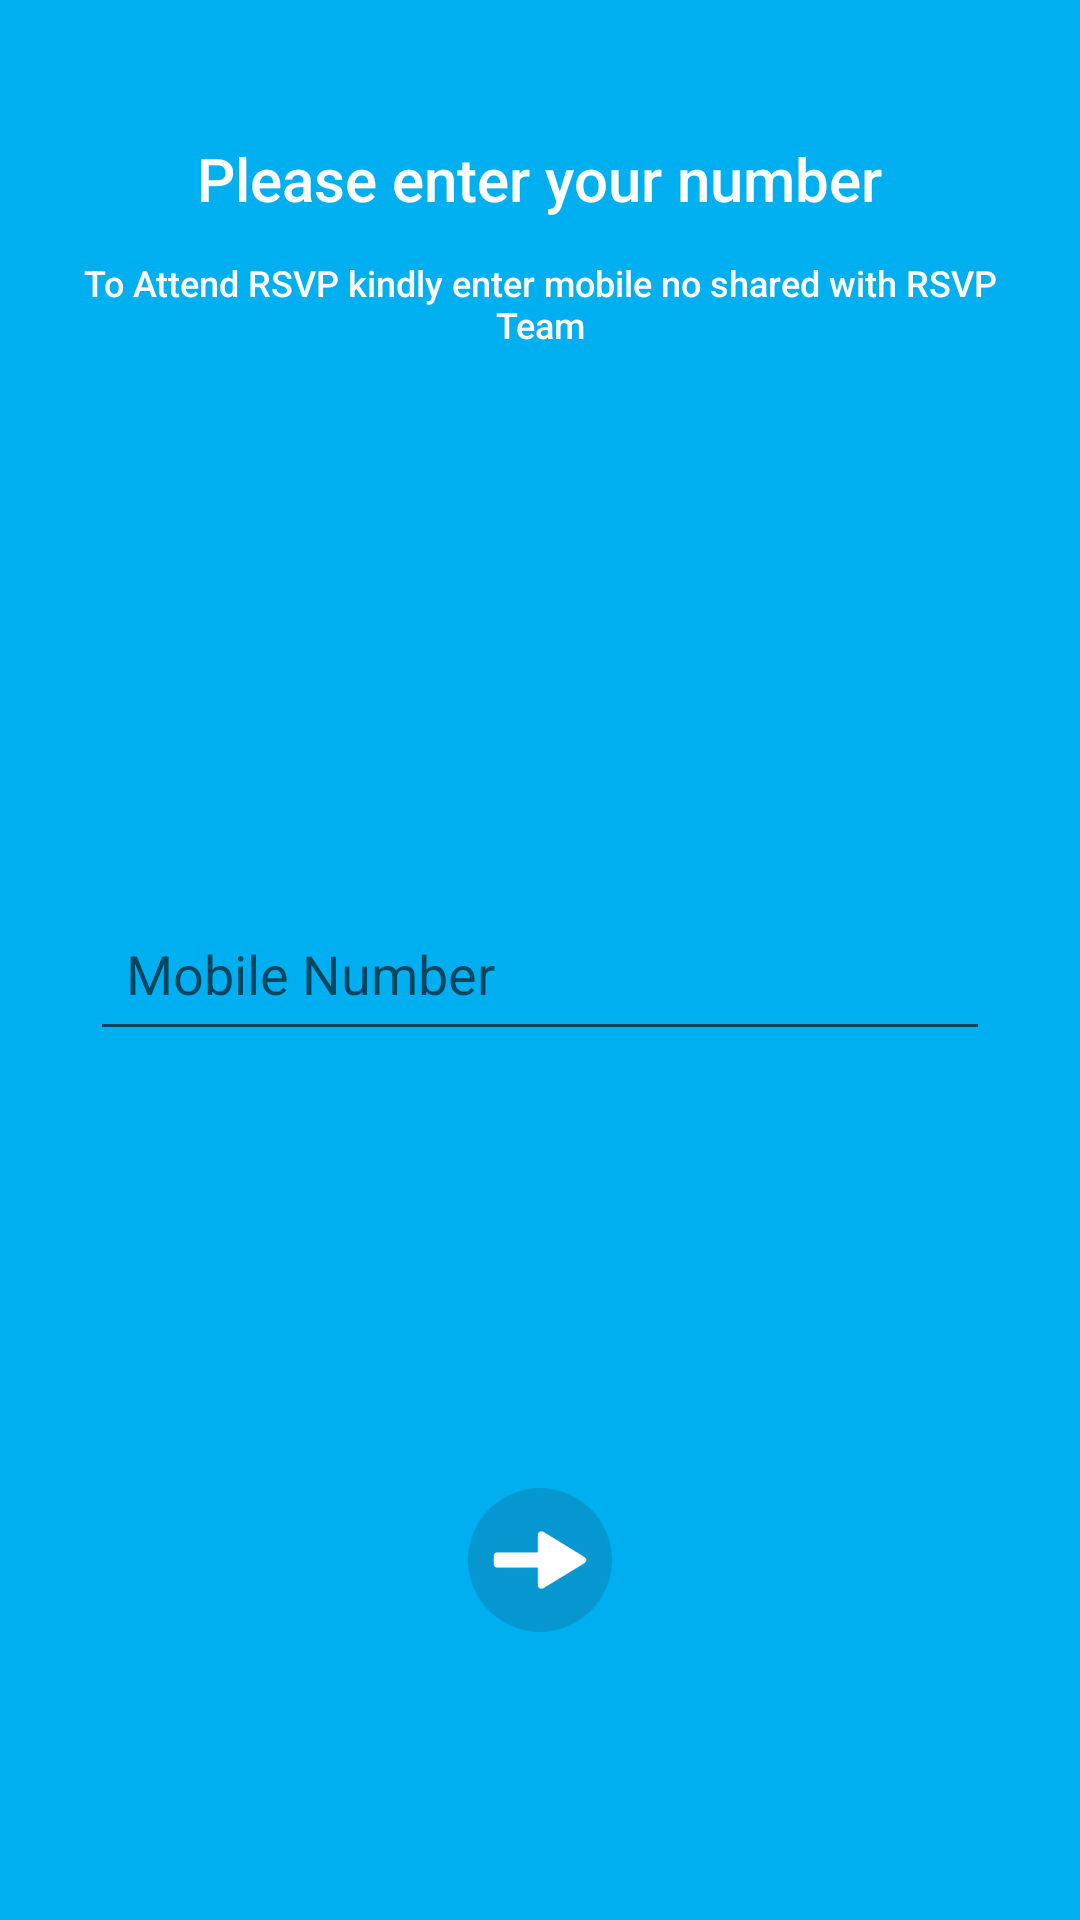

Icons on this 1080×1920 Android screen, each with its box as (x1, y1, x2, y2):
nexticon: (468, 1488, 612, 1632)
